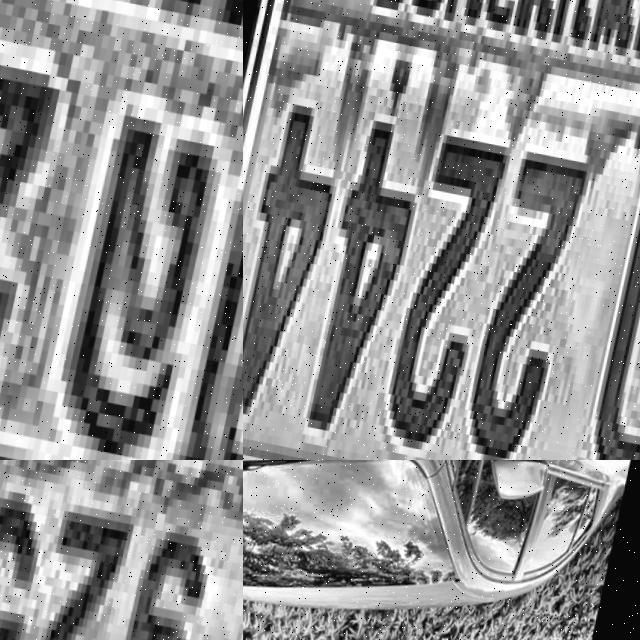license-plate: (243, 0, 640, 460), (0, 0, 243, 460), (0, 460, 243, 640)
